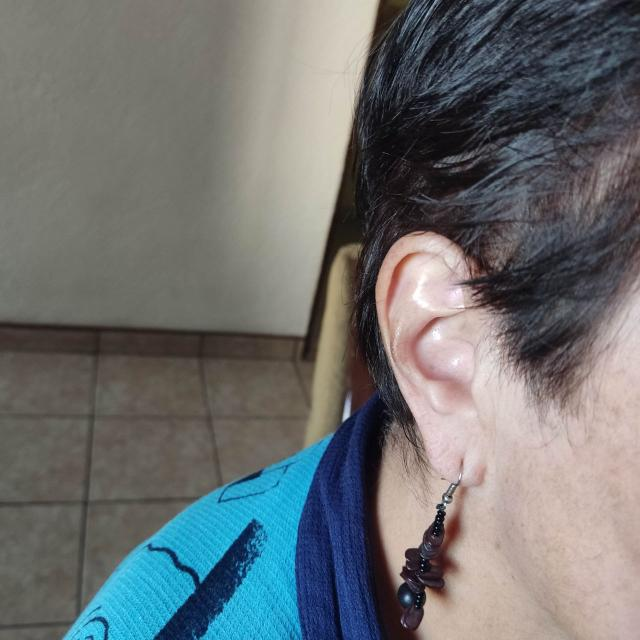ear: (376, 232, 487, 490)
